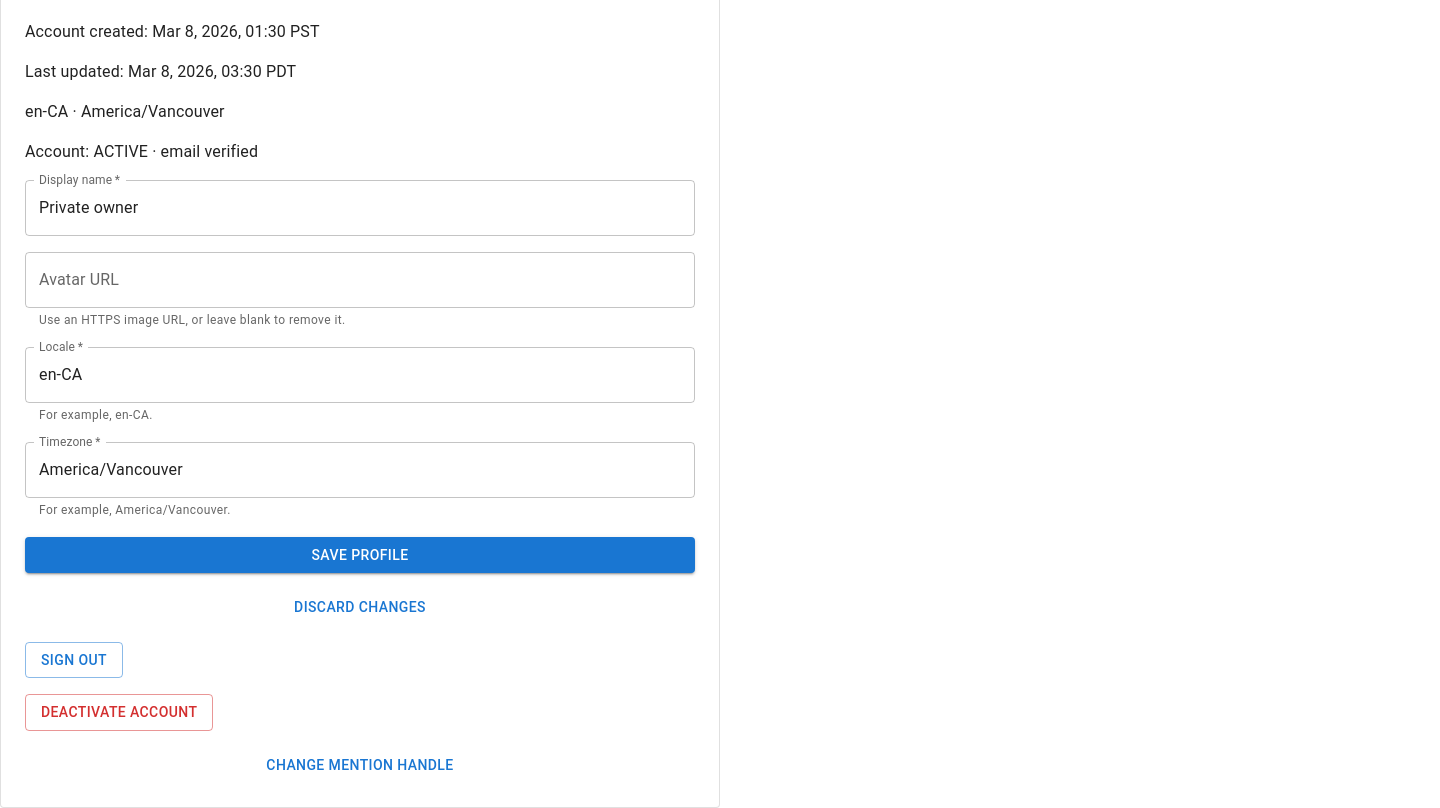
Scenario: PRD-02/03/18 account deactivation › requires explicit confirmation and focuses the safe cancellation action
(page scrolled)
Click the button "Deactivate account": {"x": 119, "y": 712} [25,694,213,731]
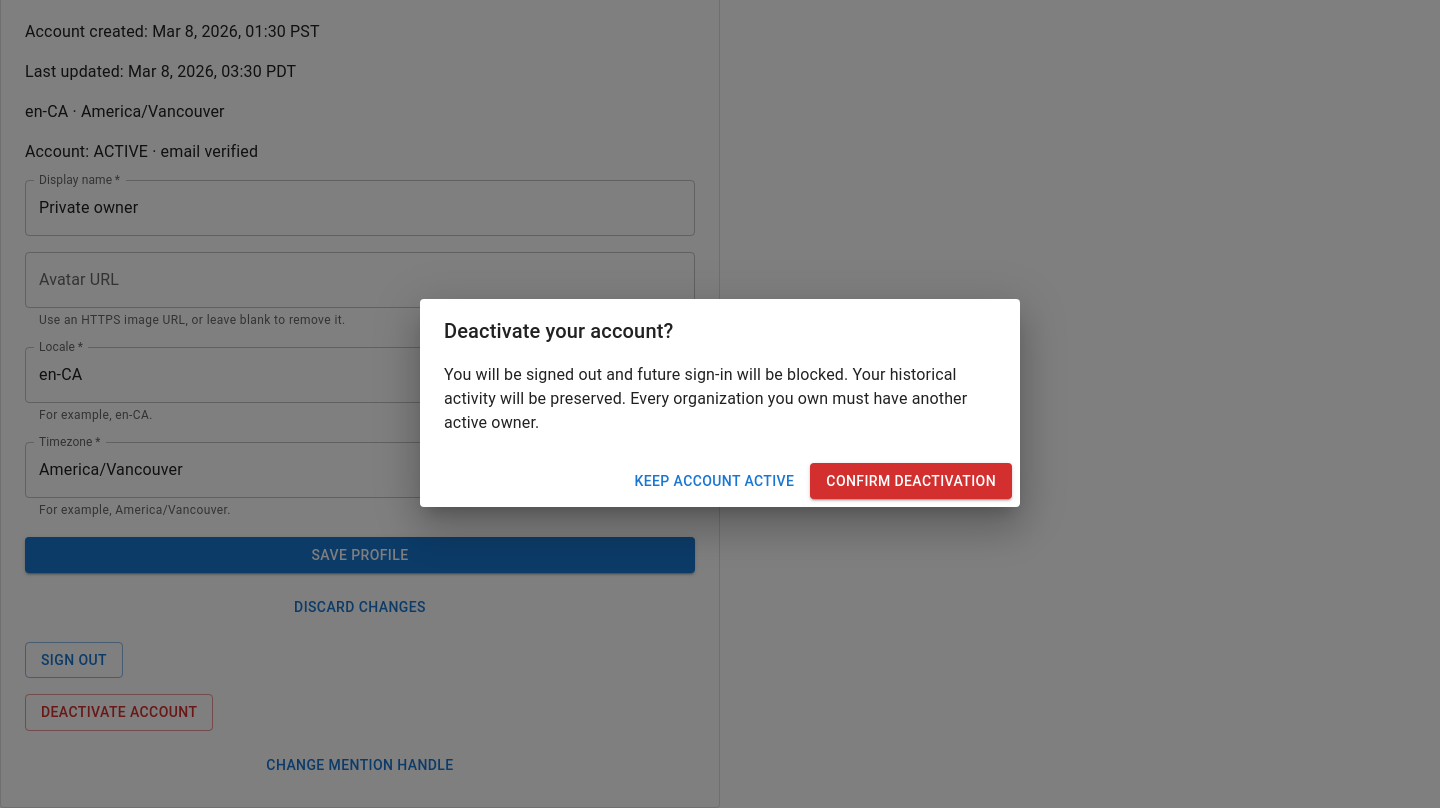
Expected: the dialog "Deactivate your account?" is shown, [420,299,1020,507]
Expected: the text "future sign-in will be blocked" is shown, [444,365,967,432]
Click the button "Keep account active": {"x": 714, "y": 481} [626,463,802,499]
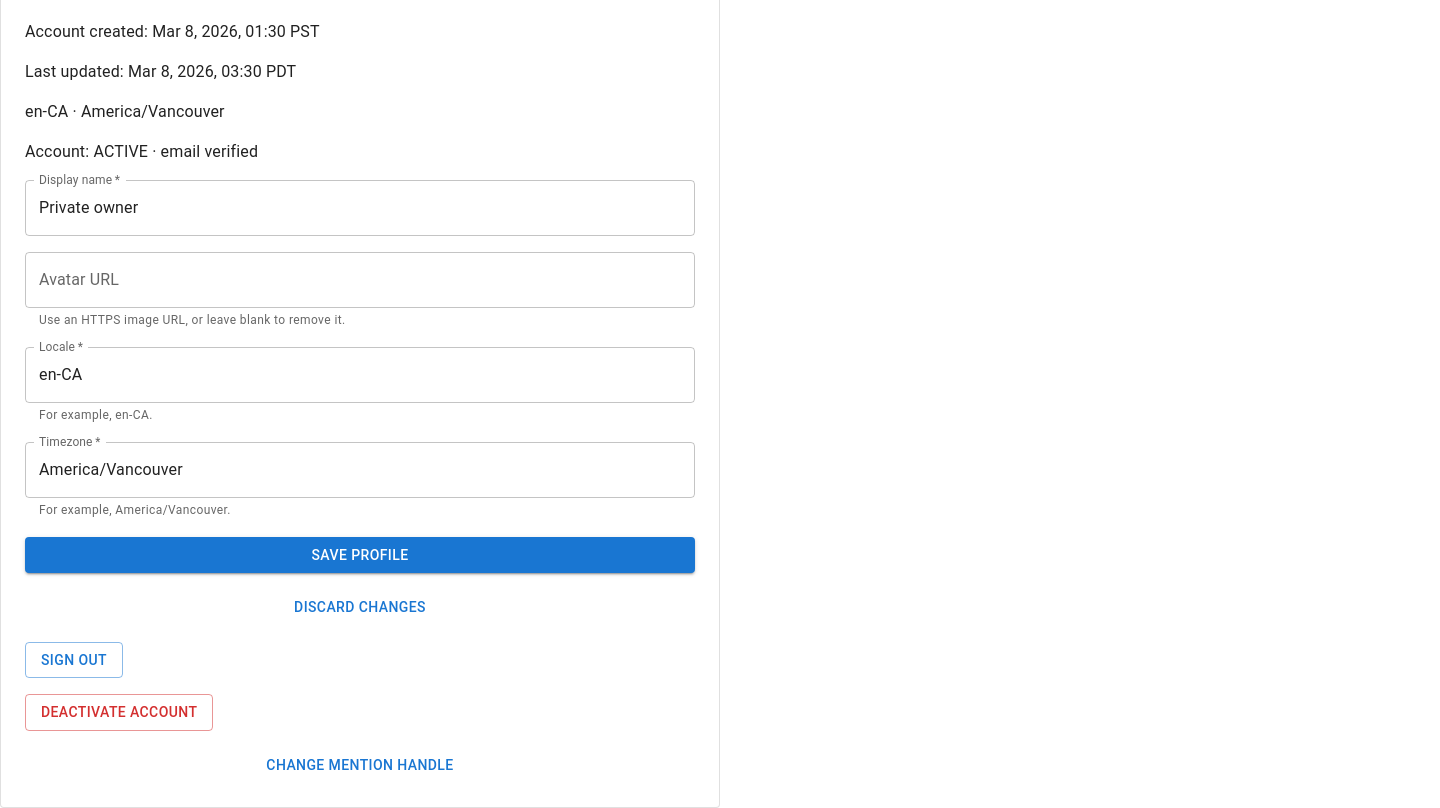
Expected: the dialog is gone
